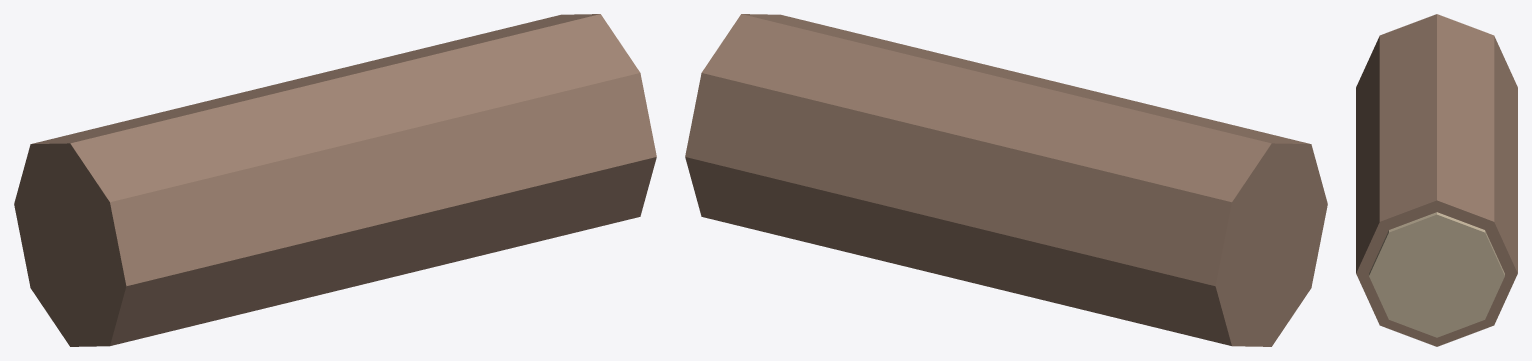
3 views of the same model, side by side, from view 1: azimuth 30°, elevation 25°; view 2: azimuth 150°, elevation 25°; view 3: azimuth 270°, elevation 25° (orthographic). The views are drawn at different scales.
Visible parts, largest first — view 1: C06; view 2: C06; view 3: C06.
Boxes of the visible parts, x1,y1,x2,y2 form: C06: (14, 14, 656, 346); C06: (685, 14, 1327, 346); C06: (1356, 14, 1517, 346).
Bounding box in the file's own units: 1.22 × 0.44 × 0.44.
